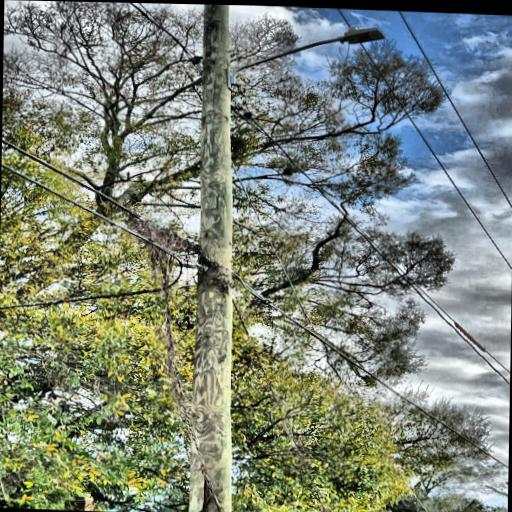pole: (177, 4, 242, 512)
street light: (224, 20, 392, 78)
